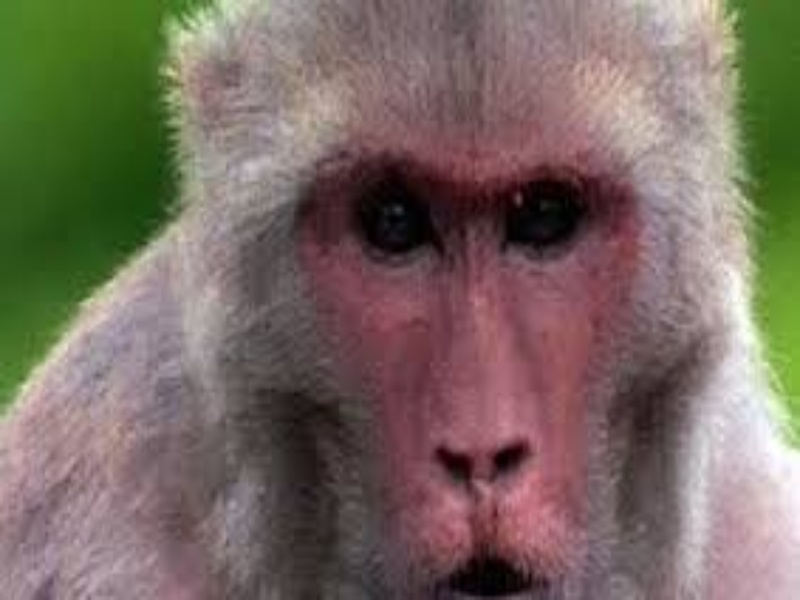monkey: (92, 11, 782, 589)
